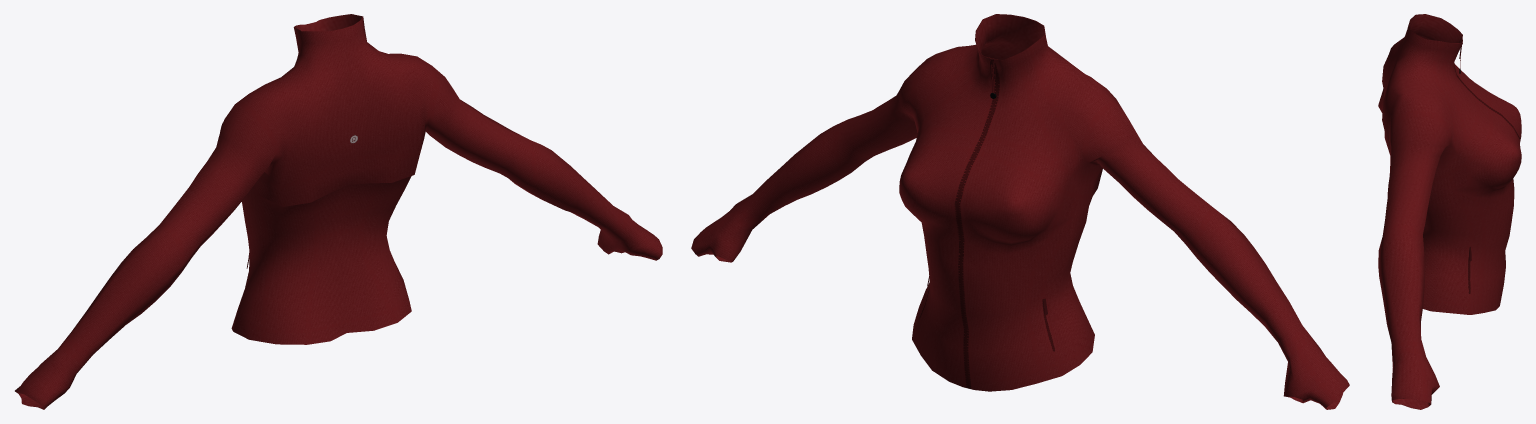
File: jacket_2.fbx
3 renders of one model, left to right at view 1: azimuth 30°, elevation 25°; view 2: azimuth 150°, elevation 25°; view 3: azimuth 270°, elevation 25°, orthographic. The views are drawn at different scales.
Visible parts, largest first — view 1: polySurface16; view 2: polySurface16; view 3: polySurface16.
Boxes of the visible parts, <box> form: polySurface16: <box>15,14,662,409</box>; polySurface16: <box>691,14,1349,409</box>; polySurface16: <box>1378,14,1521,409</box>.
Size of the model in its own units: 135 by 66.08 by 31.29.
1 material, 1 textured.
